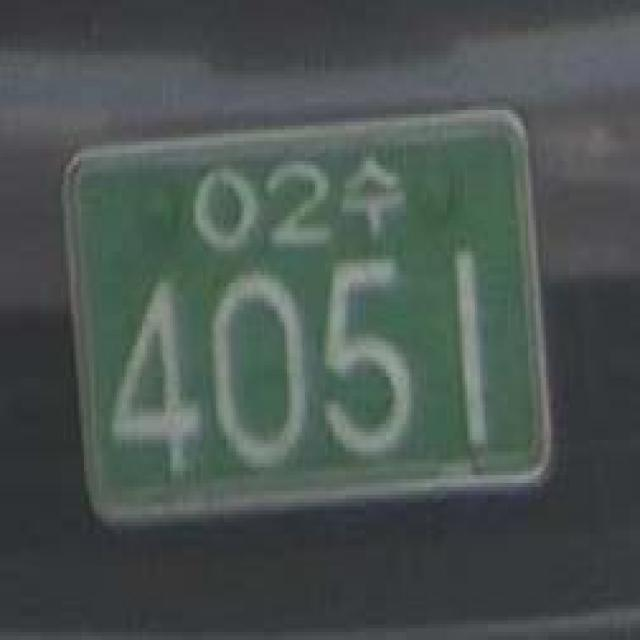illegal_plate: (66, 104, 554, 547)
